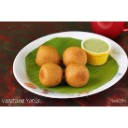bonda: (40, 63, 63, 87), (67, 64, 90, 85), (64, 48, 88, 64), (37, 46, 59, 61)
